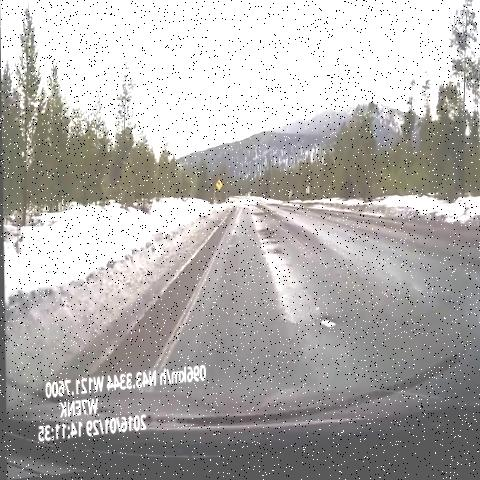pothole: (309, 310, 340, 348), (254, 227, 279, 255), (269, 244, 284, 270), (250, 213, 267, 227)
